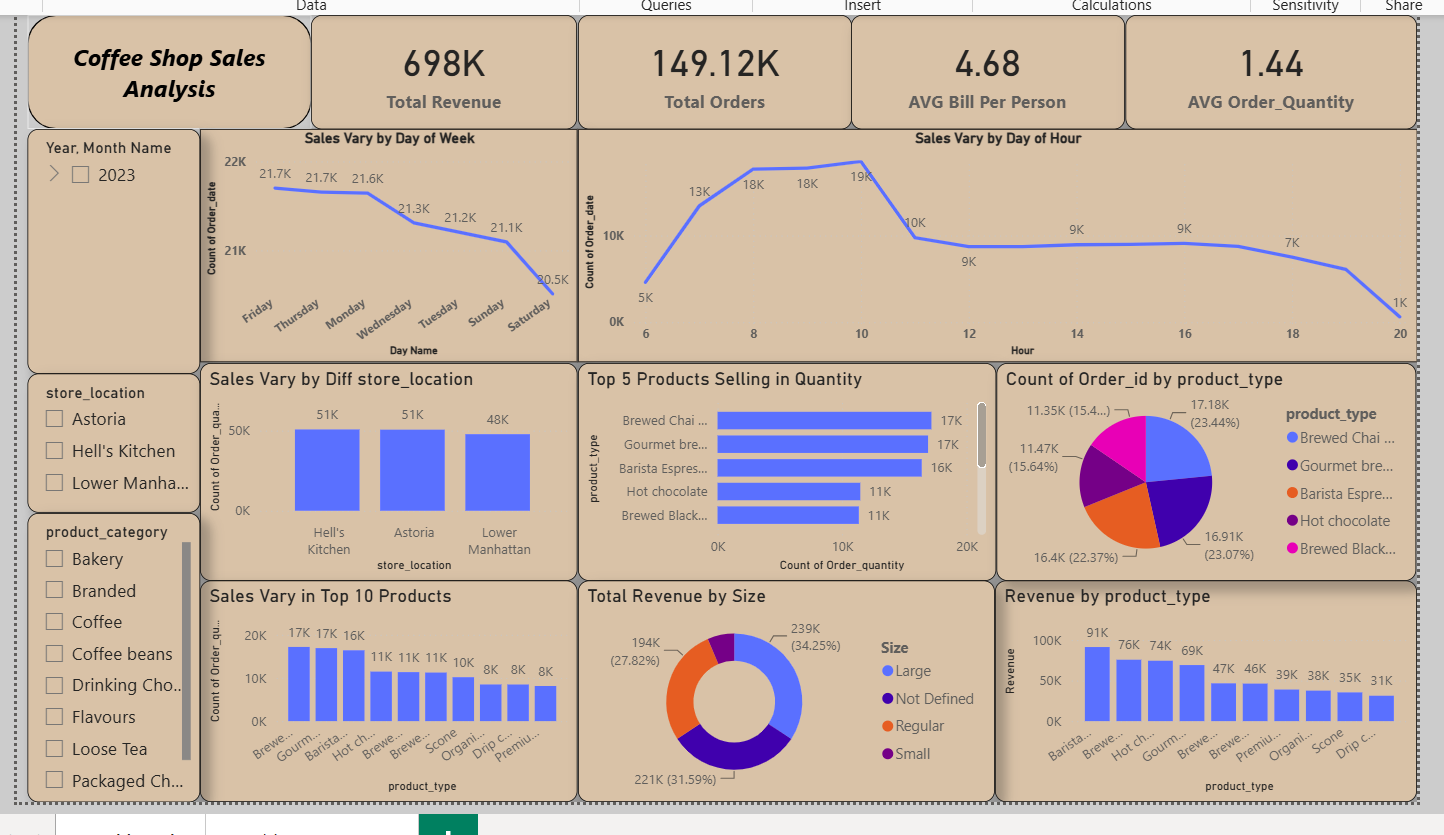

What the dashboard file says about the page in this screenshot:
{"tool":"powerbi","page":{"name":"Dashboard","canvas":[1280,720],"ordinal":0},"visuals":[{"type":"shape","box":[9.3,0,259.8,104.4],"z":0},{"type":"card","fields":{"Values":["Sum(Orders.Total_bill)"]},"box":[269.1,0,243.6,104.4],"z":1000},{"type":"card","fields":{"Values":["CountNonNull(Orders.Order_id)"]},"box":[512.7,0,250.5,104.4],"z":2000},{"type":"card","fields":{"Values":["Avg(Orders.Total_bill)"]},"box":[763.2,0,250.5,104.4],"z":3000},{"type":"card","fields":{"Values":["Avg(Orders.Order_quantity)"]},"box":[1013.7,0,266.8,104.4],"z":4000},{"type":"lineChart","title":"Sales Vary by Day of Week","fields":{"Category":["Orders.Day Name"],"Y":["CountNonNull(Orders.Order_date)"]},"box":[167,104.4,345.6,213.4],"z":5000},{"type":"lineChart","title":"Sales Vary by Day of Hour","fields":{"Category":["Orders.Hour"],"Y":["CountNonNull(Orders.Order_date)"]},"box":[512.7,104.4,767.9,213.4],"z":6000},{"type":"slicer","fields":{"Values":["Orders.Order_date.Variation.Date Hierarchy.Year","Orders.Month Name"]},"box":[9.3,104.4,157.7,223.9],"z":7000},{"type":"slicer","fields":{"Values":["Orders.store_location"]},"box":[9.3,328.3,157.7,127.6],"z":8000},{"type":"columnChart","title":"Sales Vary by Diff store_location","fields":{"Category":["Orders.store_location"],"Y":["CountNonNull(Orders.Order_quantity)"]},"box":[167,317.8,345.6,199.5],"z":9000},{"type":"barChart","title":"Top 5 Products Selling in Quantity ","fields":{"Category":["Orders.product_type"],"Y":["CountNonNull(Orders.Order_quantity)"]},"box":[512.7,317.8,382.8,199.5],"z":10000},{"type":"columnChart","fields":{"Category":["Orders.product_type"],"Y":["Sum(Orders.Total_bill)"]},"box":[894.3,517.3,386.2,203],"z":11000},{"type":"columnChart","title":"Sales Vary in Top 10 Products","fields":{"Category":["Orders.product_type"],"Y":["CountNonNull(Orders.Order_quantity)"]},"box":[167,517.3,345.6,203],"z":12000},{"type":"donutChart","fields":{"Category":["Orders.Size"],"Y":["Sum(Orders.Total_bill)"]},"box":[512.7,517.3,381.6,203],"z":13000},{"type":"pieChart","fields":{"Category":["Orders.product_type"],"Y":["CountNonNull(Orders.Order_id)"]},"box":[896.6,317.8,383.9,199.5],"z":14000},{"type":"slicer","fields":{"Values":["Orders.product_category"]},"box":[9.3,455.8,157.7,264.5],"z":15000}]}

Visuals, with their boxes in screenshot pixels (x1, y1, x2, y2):
shape: 14, 8, 303, 124
card - Sum(Orders.Total_bill): 303, 8, 574, 124
card - CountNonNull(Orders.Order_id): 574, 8, 853, 124
card - Avg(Orders.Total_bill): 853, 8, 1132, 124
card - Avg(Orders.Order_quantity): 1132, 8, 1428, 124
"Sales Vary by Day of Week" lineChart: 190, 124, 574, 361
"Sales Vary by Day of Hour" lineChart: 574, 124, 1428, 361
slicer - Orders.Order_date.Variation.Date Hierarchy.Year x Orders.Month Name: 14, 124, 190, 373
slicer - Orders.store_location: 14, 373, 190, 515
"Sales Vary by Diff store_location" columnChart: 190, 361, 574, 583
"Top 5 Products Selling in Quantity " barChart: 574, 361, 1000, 583
columnChart - Orders.product_type x Sum(Orders.Total_bill): 999, 583, 1428, 809
"Sales Vary in Top 10 Products" columnChart: 190, 583, 574, 809
donutChart - Orders.Size x Sum(Orders.Total_bill): 574, 583, 999, 809
pieChart - Orders.product_type x CountNonNull(Orders.Order_id): 1001, 361, 1428, 583
slicer - Orders.product_category: 14, 515, 190, 809
